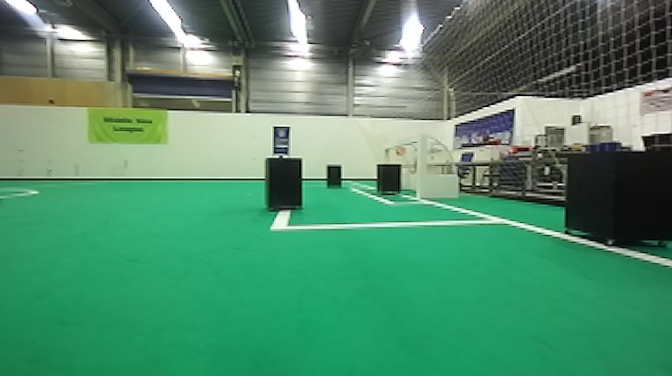goalpost: (418, 134, 427, 199), (381, 144, 390, 168)
